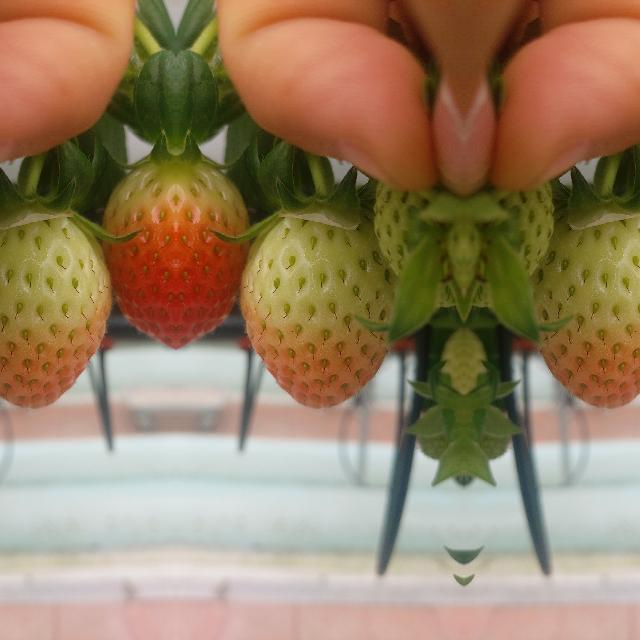Health_100: (174, 144, 256, 362), (94, 144, 176, 362)
Health_50: (240, 205, 396, 408), (0, 205, 110, 408), (530, 205, 640, 408)
